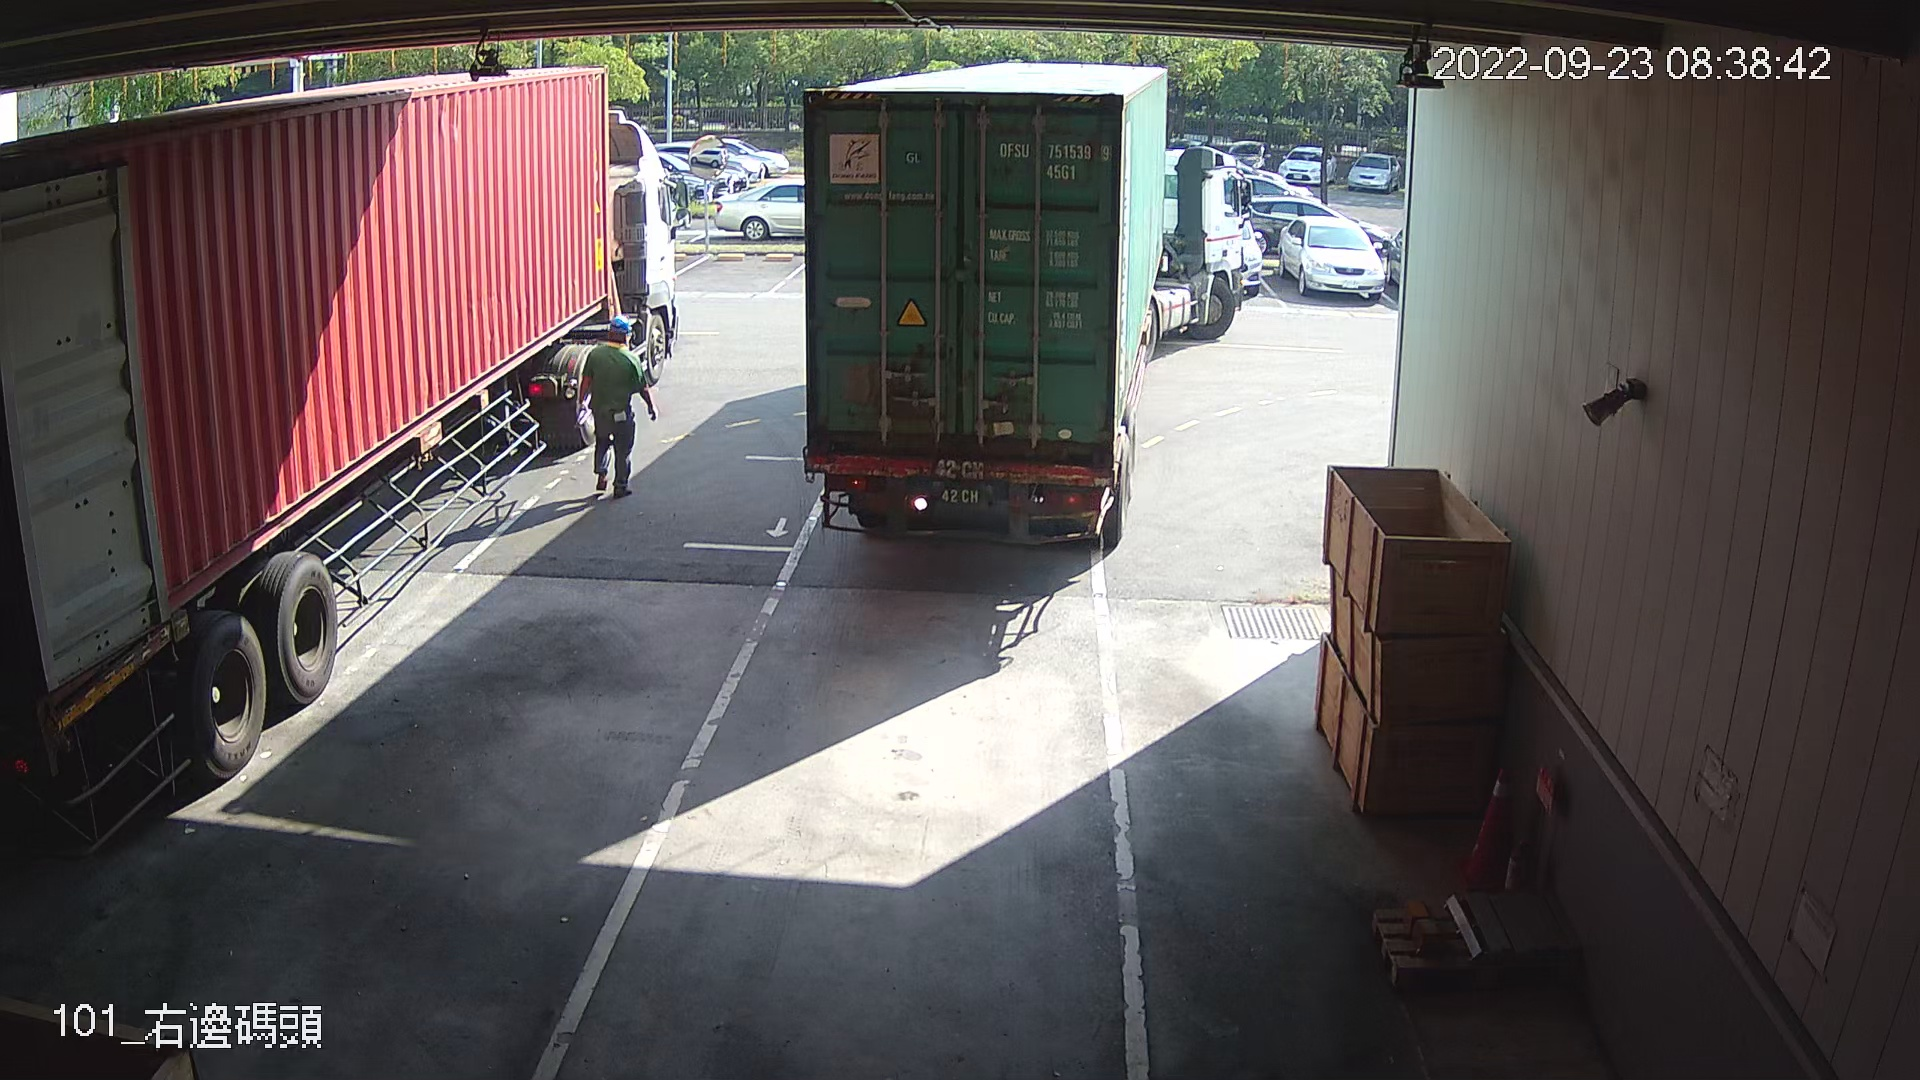container: (992, 133, 1117, 189)
